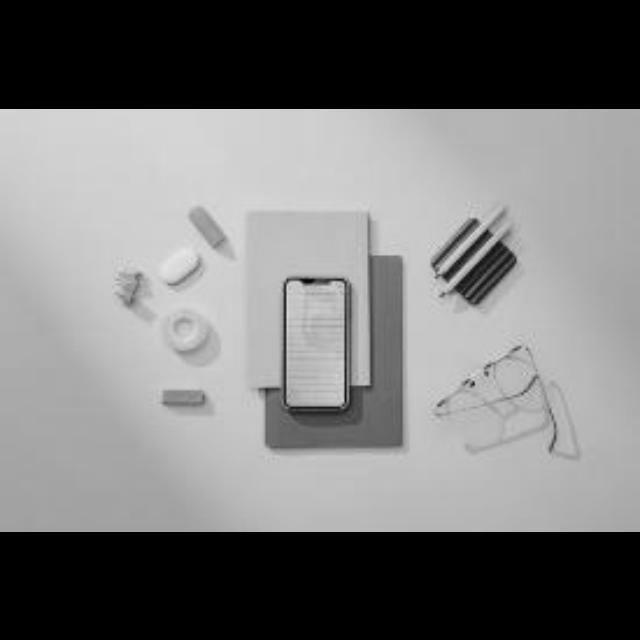fake: (274, 268, 370, 436)
